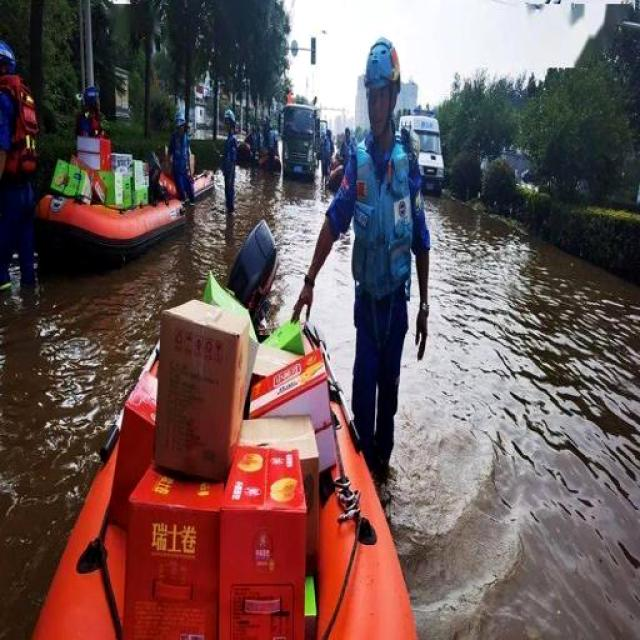rescuer: (290, 30, 446, 536), (0, 19, 50, 324), (158, 100, 208, 224), (216, 97, 240, 228), (73, 72, 109, 148), (318, 124, 338, 193), (334, 116, 356, 172), (269, 124, 285, 166), (247, 126, 260, 166), (282, 81, 298, 108)
